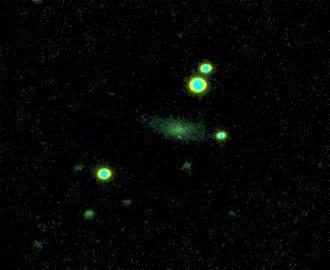star: (162, 119, 192, 149)
